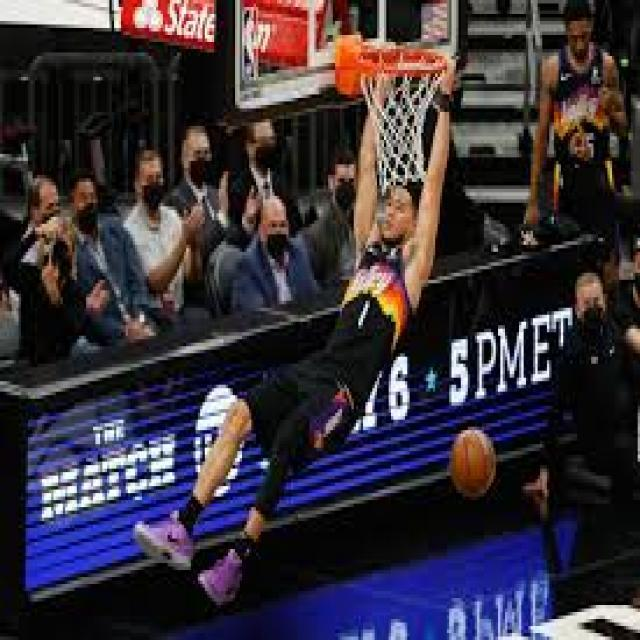rim: (452, 426, 498, 496)
